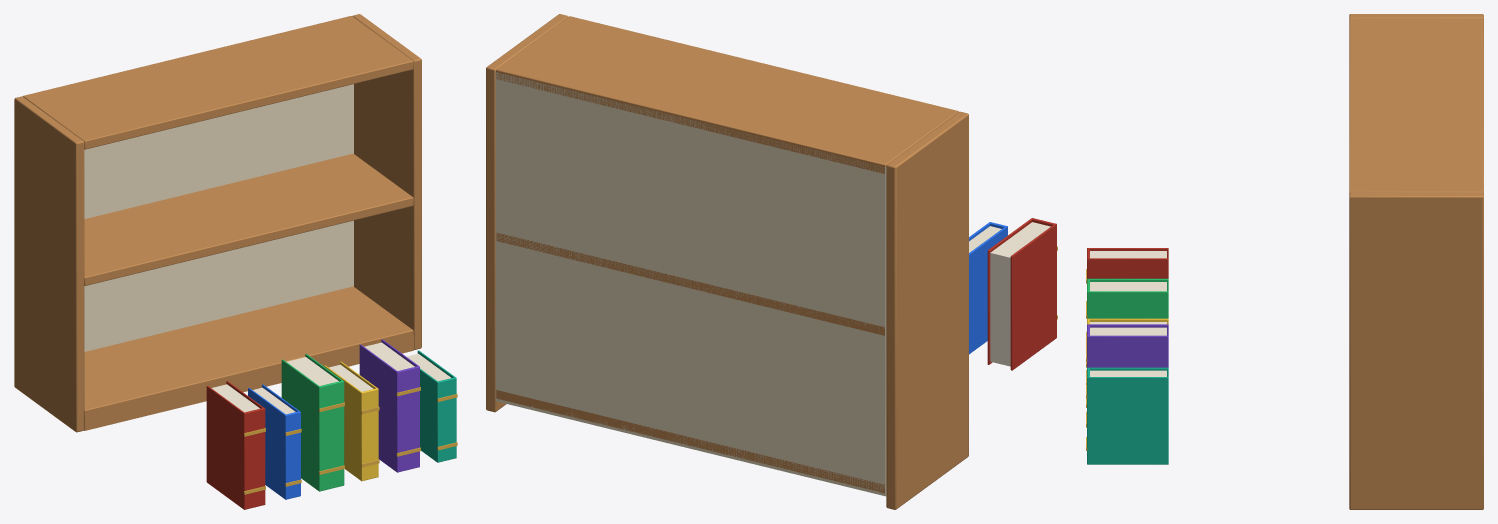
File: Bookshelf.glb
The picture shows the model from 3 angles, left to right: view 1: azimuth 30°, elevation 25°; view 2: azimuth 150°, elevation 25°; view 3: azimuth 270°, elevation 25°; orthographic projection. The views are drawn at different scales.
Parts seen in each view (by area): view 1: Bookshelf, Book_1, Book_3, Book_5, Book_4, Book_2, Book_6; view 2: Bookshelf, Book_1, Book_2; view 3: Bookshelf, Book_6, Book_5, Book_3, Book_1, Book_4.
Boxes of the visible parts, x1,y1,x2,y2 form: Bookshelf: (14,14,421,432); Book_1: (206,381,265,509); Book_3: (281,353,344,491); Book_5: (359,339,420,472); Book_4: (324,361,379,481); Book_2: (248,384,301,499); Book_6: (407,350,457,462); Bookshelf: (486,14,968,509); Book_1: (987,218,1057,370); Book_2: (969,222,1007,354); Bookshelf: (1349,14,1483,509); Book_6: (1086,367,1168,464); Book_5: (1086,324,1168,427); Book_3: (1086,278,1168,384); Book_1: (1086,248,1168,337); Book_4: (1086,318,1168,407).
Bounding box in the file's own units: 0.9 × 0.72 × 0.827.
